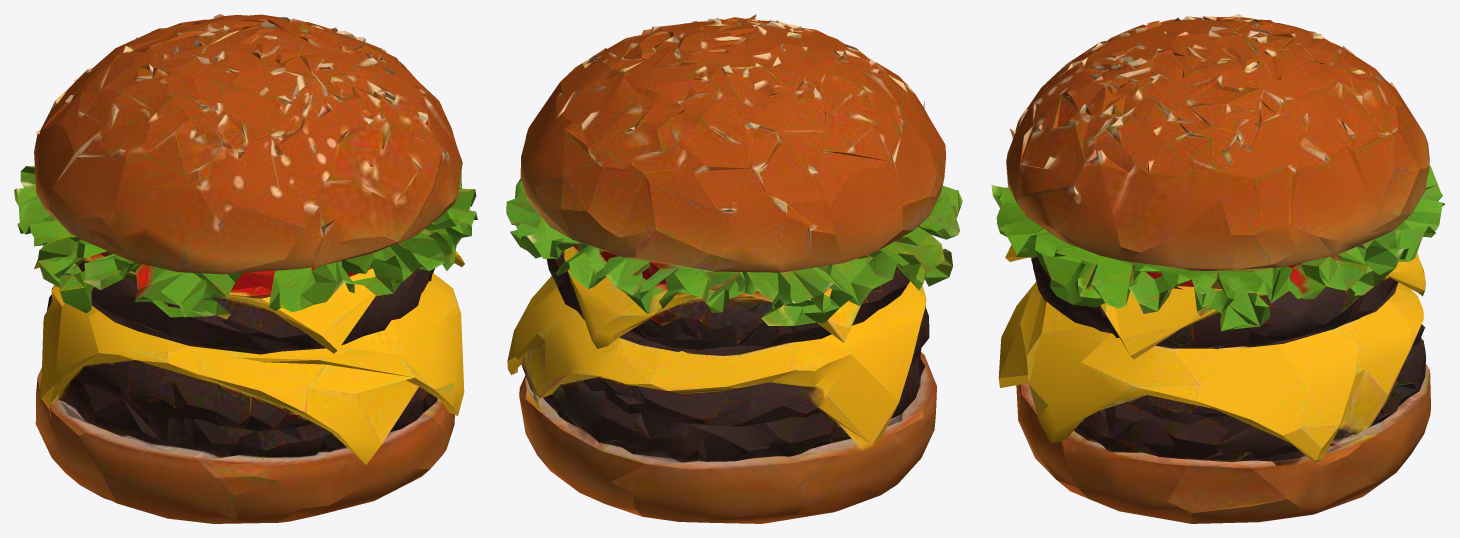
Rendered from addy_lunch_burger.glb.
3 renders of one model, left to right at view 1: azimuth 30°, elevation 25°; view 2: azimuth 150°, elevation 25°; view 3: azimuth 270°, elevation 25°, orthographic.
Bounding box in the file's own units: 1.9 × 1.82 × 1.87.
Materials: 1 (1 with a texture image).
